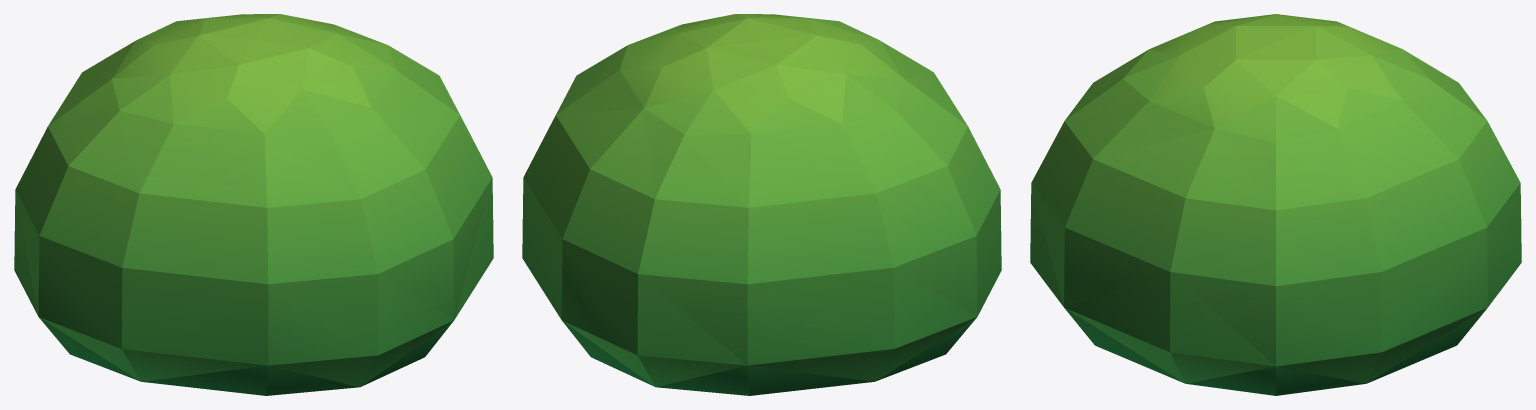
File: kf_bush_1_b.fbx
The picture shows the model from 3 angles, left to right: view 1: azimuth 30°, elevation 25°; view 2: azimuth 150°, elevation 25°; view 3: azimuth 270°, elevation 25°; orthographic projection.
Visible parts, largest first — view 1: kf_bush_1_b; view 2: kf_bush_1_b; view 3: kf_bush_1_b.
Part boxes in pixels (bbox=[...]): kf_bush_1_b: bbox=[14, 14, 493, 395]; kf_bush_1_b: bbox=[522, 14, 1001, 395]; kf_bush_1_b: bbox=[1030, 14, 1521, 395].
Bounding box in the file's own units: 1.16 × 0.7746 × 1.16.
